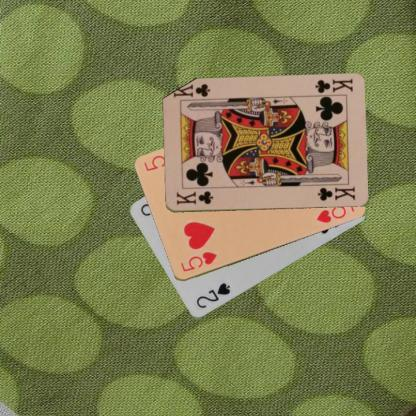2s: (194, 280, 232, 310)
5h: (178, 249, 218, 273)
Kc: (312, 77, 354, 94), (174, 189, 214, 206)
